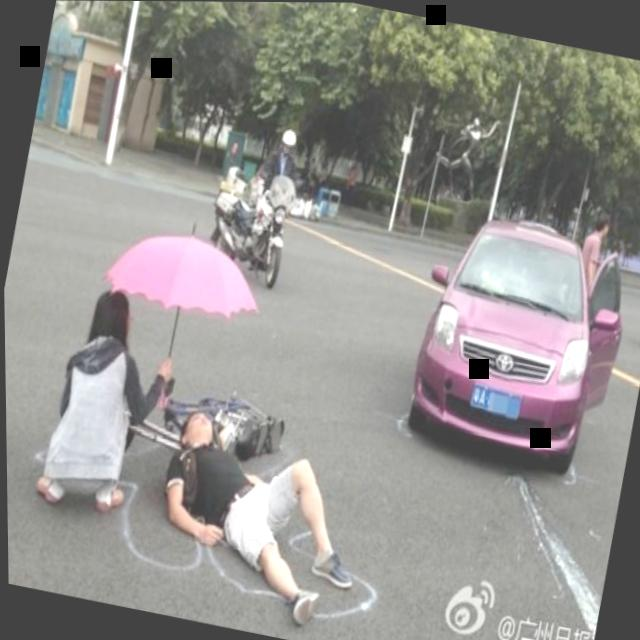Fall-Detected: (122, 391, 389, 639)
